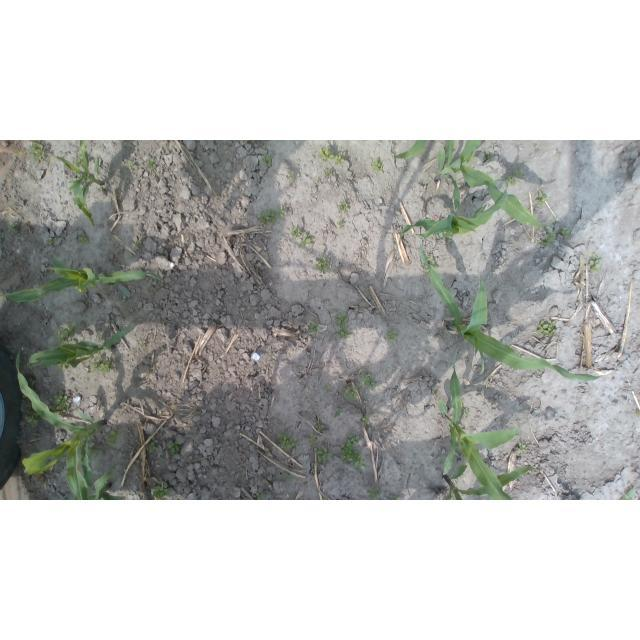Maize: (418, 244, 604, 385), (393, 140, 558, 228), (12, 350, 107, 500), (439, 348, 522, 501), (1, 258, 166, 305), (399, 179, 510, 242), (31, 324, 136, 368), (54, 140, 104, 226), (439, 464, 535, 500), (85, 470, 125, 500)
Weeds: (339, 433, 367, 468), (89, 357, 116, 376), (55, 323, 75, 346), (277, 431, 297, 453), (53, 392, 70, 416), (336, 313, 351, 340), (30, 141, 46, 164), (536, 319, 556, 337), (152, 484, 173, 501), (540, 228, 557, 248), (314, 445, 334, 462), (359, 371, 377, 389), (259, 208, 277, 225), (315, 254, 329, 275), (586, 254, 601, 273), (88, 443, 104, 460), (344, 386, 361, 401), (422, 255, 436, 273), (167, 439, 181, 457), (319, 147, 335, 162), (107, 429, 122, 445), (368, 486, 385, 500), (25, 413, 40, 428), (534, 188, 547, 205), (620, 488, 636, 501), (370, 156, 383, 172), (338, 200, 351, 213), (387, 329, 401, 341), (262, 153, 273, 168), (276, 204, 286, 220), (8, 220, 20, 233), (301, 233, 312, 247), (308, 321, 320, 333), (68, 178, 79, 191), (561, 227, 572, 239), (290, 227, 303, 237), (146, 158, 156, 171), (335, 152, 345, 164), (511, 168, 523, 178), (75, 153, 83, 168), (57, 363, 71, 371), (504, 175, 514, 186), (79, 233, 89, 244), (148, 442, 158, 453), (287, 171, 297, 181), (360, 415, 369, 426), (139, 339, 148, 348), (484, 152, 493, 161), (518, 443, 526, 453), (315, 424, 325, 432), (283, 472, 292, 480), (388, 494, 400, 500), (308, 436, 316, 445), (48, 236, 57, 244), (335, 407, 342, 417), (127, 159, 134, 169), (258, 492, 266, 500), (323, 169, 332, 176), (462, 408, 468, 418), (336, 221, 344, 228), (135, 242, 144, 248), (323, 385, 330, 392), (100, 185, 107, 191), (313, 180, 319, 186), (312, 462, 320, 466), (432, 387, 437, 393), (44, 268, 48, 272)
